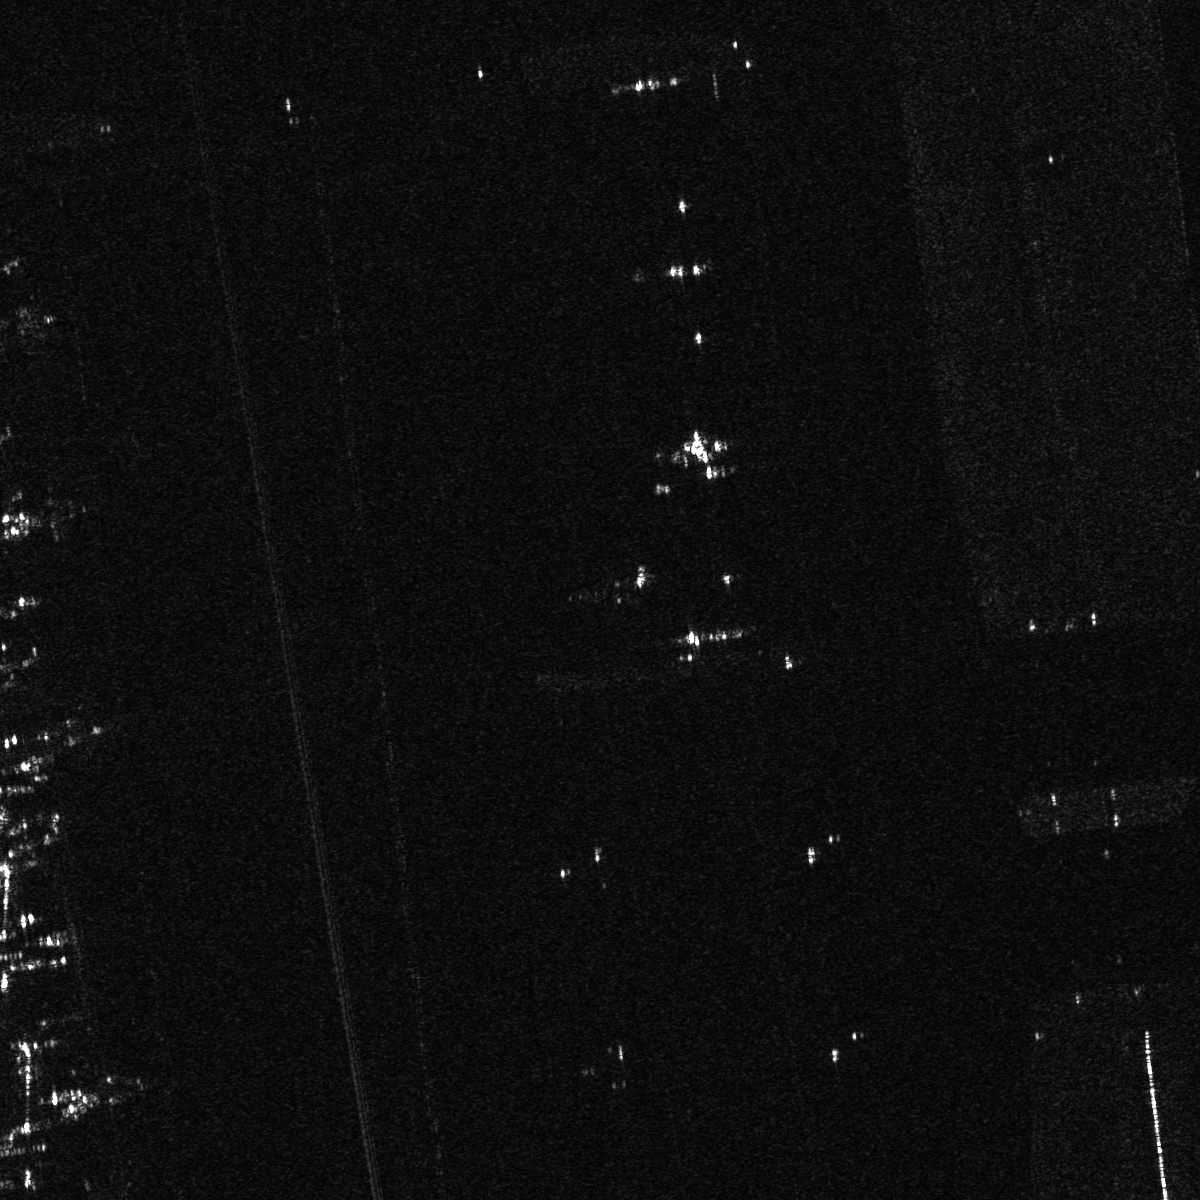A220: (671, 423, 733, 482)
